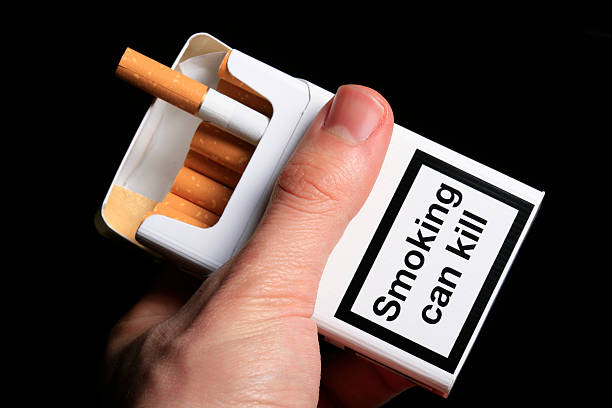cigarette: (100, 31, 549, 400), (110, 47, 272, 147), (189, 120, 257, 174), (169, 166, 235, 217), (215, 48, 269, 99), (216, 79, 274, 119), (184, 150, 242, 190), (161, 191, 221, 227), (152, 201, 210, 230)
